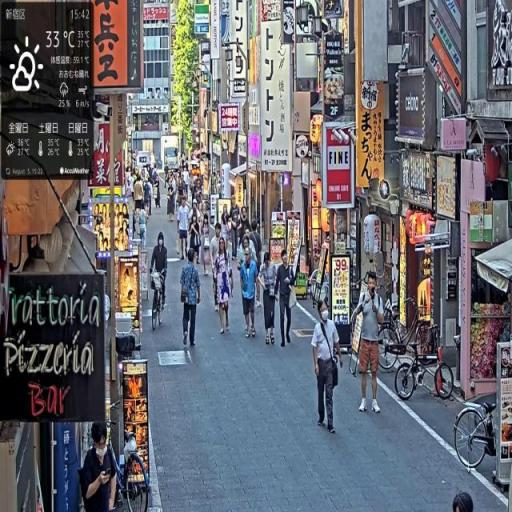person: (353, 271, 387, 416), (313, 300, 344, 436), (82, 421, 120, 512), (274, 248, 297, 348), (181, 250, 203, 352), (257, 248, 279, 347), (214, 243, 234, 337), (240, 247, 260, 341), (151, 232, 169, 313), (177, 192, 192, 262)
